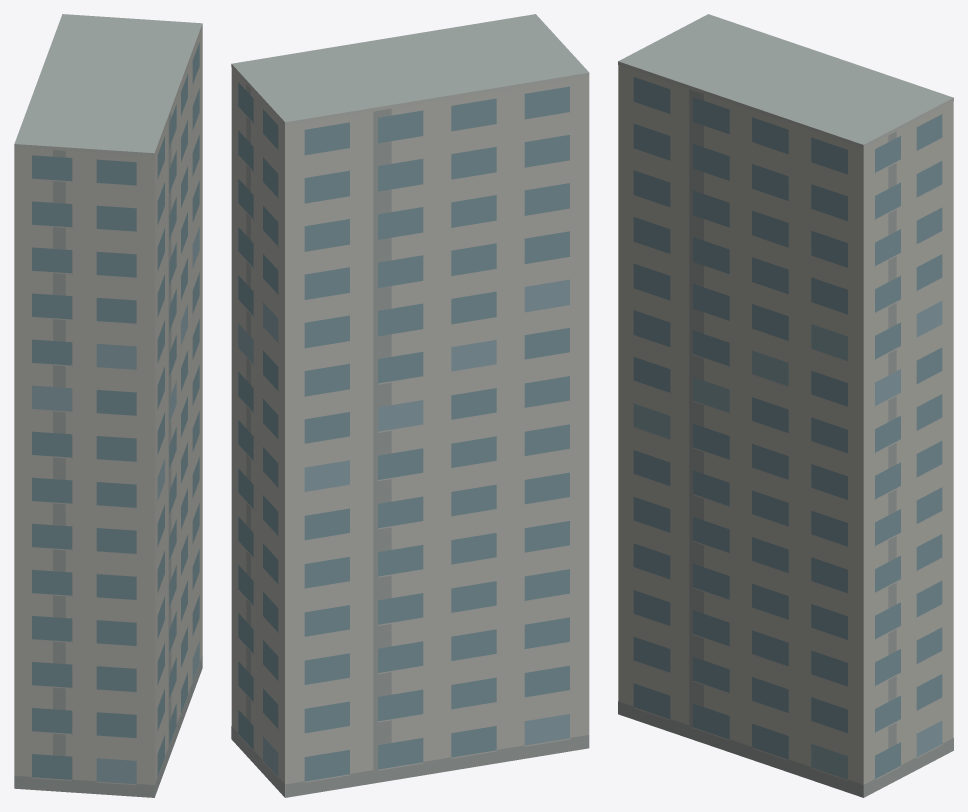
Rendered from residential-8323bd5c-a5e2-4f5a-9101-92cedf617281.glb.
The picture shows the model from 3 angles, left to right: view 1: azimuth 30°, elevation 25°; view 2: azimuth 150°, elevation 25°; view 3: azimuth 270°, elevation 25°; orthographic projection. The views are drawn at different scales.
Parts seen in each view (by area): view 1: residential-8323bd5c-a5e2-4f5a-9101-92cedf617281.tmp; view 2: residential-8323bd5c-a5e2-4f5a-9101-92cedf617281.tmp; view 3: residential-8323bd5c-a5e2-4f5a-9101-92cedf617281.tmp.
Part boxes in pixels (x1=…): residential-8323bd5c-a5e2-4f5a-9101-92cedf617281.tmp: x1=14, y1=14, x2=202, y2=797; residential-8323bd5c-a5e2-4f5a-9101-92cedf617281.tmp: x1=231, y1=14, x2=589, y2=797; residential-8323bd5c-a5e2-4f5a-9101-92cedf617281.tmp: x1=618, y1=14, x2=953, y2=797.
Size of the model in its own units: 19.36 by 45 by 20.97.
